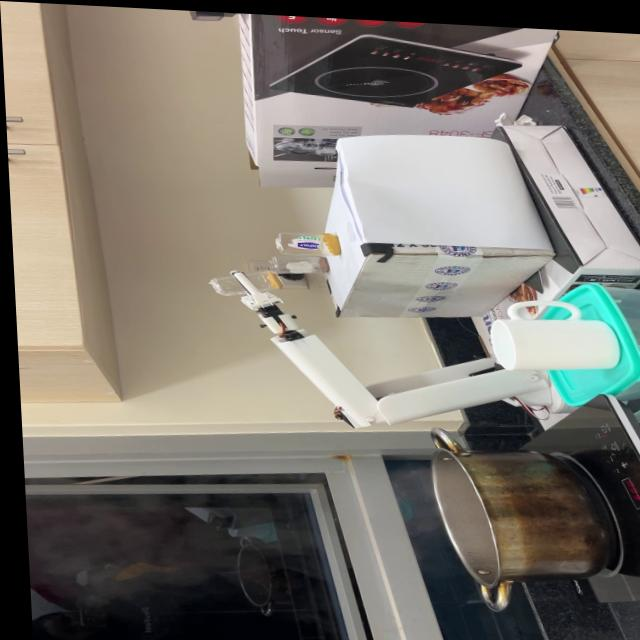cooking_pot: (425, 419, 600, 613)
curry_powder: (262, 269, 283, 286)
garlic_powder: (317, 227, 342, 250)
maggie_open: (309, 253, 329, 268)
